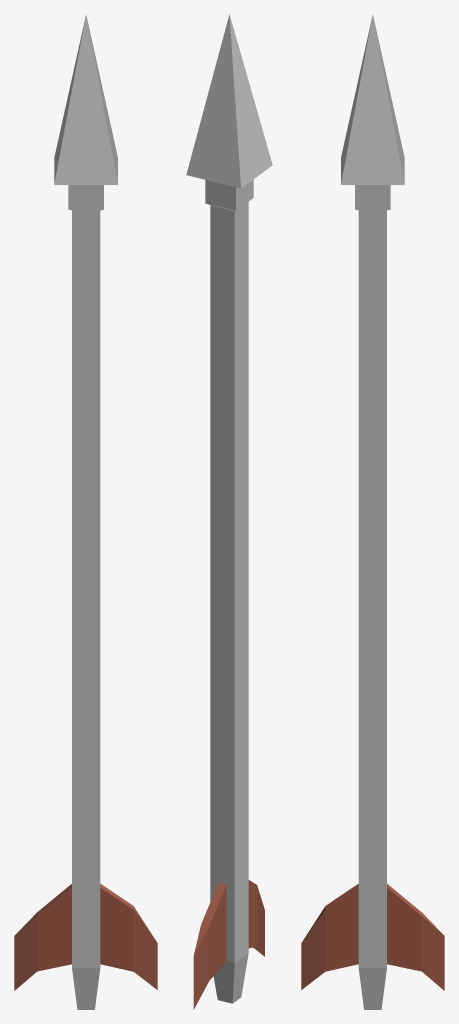
File: arrow.fbx
3 views of the same model, side by side, from view 1: azimuth 90°, elevation 25°; view 2: azimuth 150°, elevation 25°; view 3: azimuth 270°, elevation 25° (orthographic).
Parts seen in each view (by area): view 1: Arrow; view 2: Arrow; view 3: Arrow.
Boxes of the visible parts, x1,y1,x2,y2 form: Arrow: (14, 14, 157, 1009); Arrow: (186, 14, 272, 1009); Arrow: (301, 14, 444, 1009).
Size of the model in its own units: 0.0514 by 0.8816 by 0.1156.
